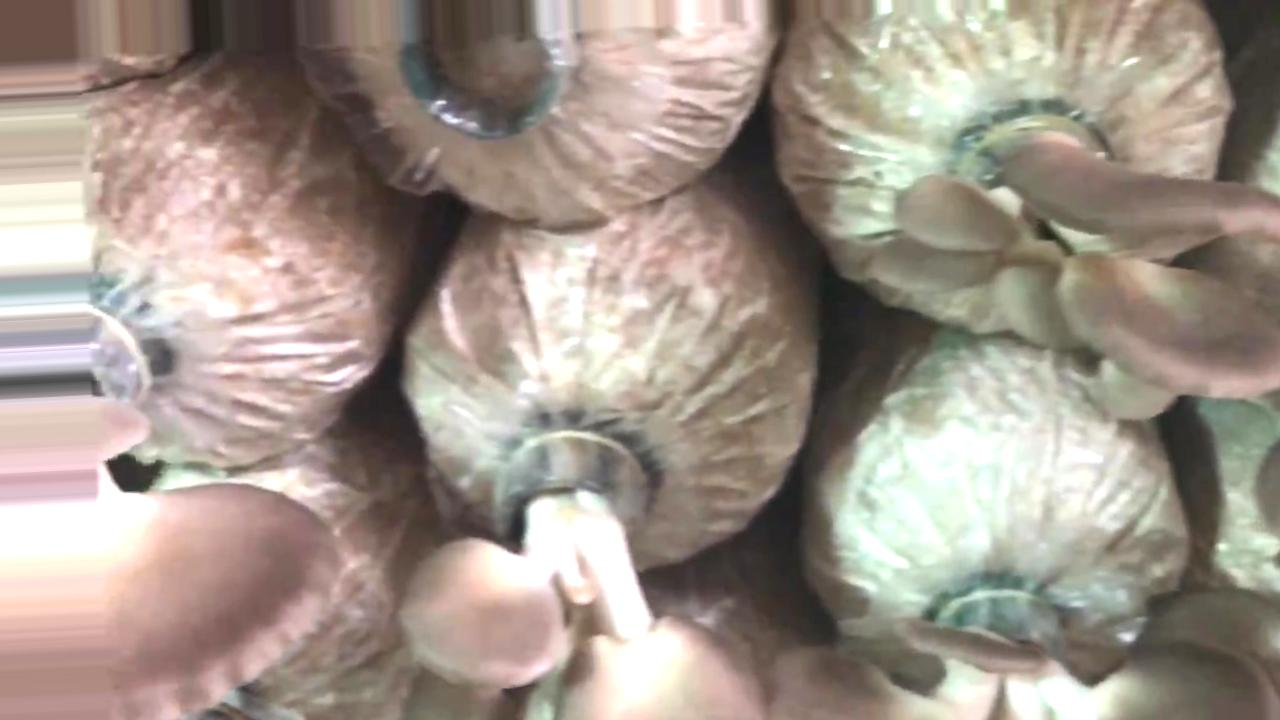nam: (863, 106, 1280, 419), (396, 413, 777, 718), (110, 267, 343, 720)
